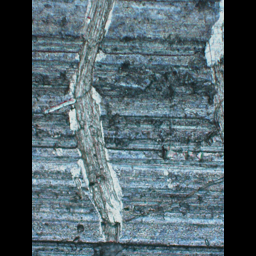d: (74, 84, 125, 256), (188, 0, 223, 149), (72, 1, 118, 97)
